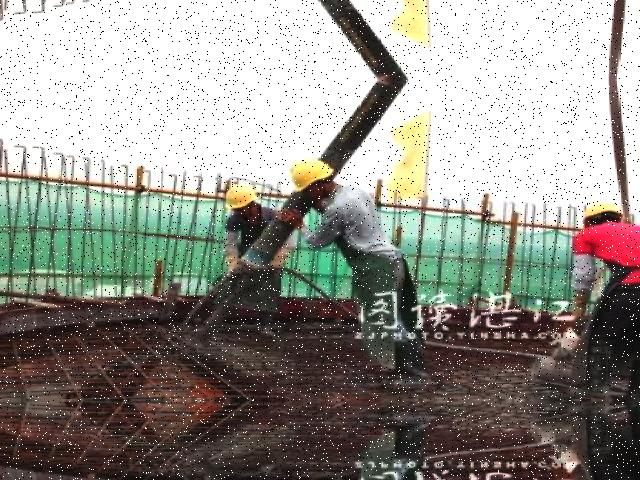Helmet: (284, 156, 339, 193), (218, 179, 262, 212), (576, 198, 626, 226)
